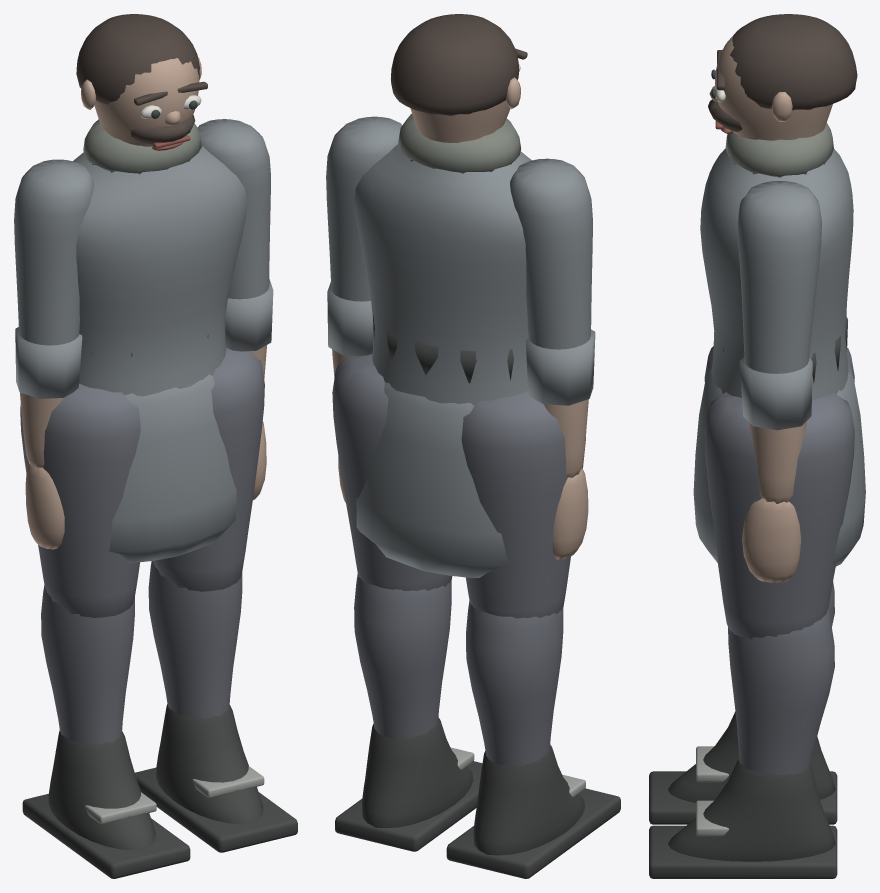
File: resident_still_c_v6.glb
3 renders of one model, left to right at view 1: azimuth 30°, elevation 25°; view 2: azimuth 150°, elevation 25°; view 3: azimuth 270°, elevation 25°, orthographic. The views are drawn at different scales.
Parts seen in each view (by area): view 1: HabResidentStill; view 2: HabResidentStill; view 3: HabResidentStill.
Boxes of the visible parts, x1,y1,x2,y2 form: HabResidentStill: [14, 14, 297, 878]; HabResidentStill: [326, 14, 620, 878]; HabResidentStill: [649, 14, 865, 878].
Bounding box in the file's own units: 0.5573 × 1.67 × 0.4048.
